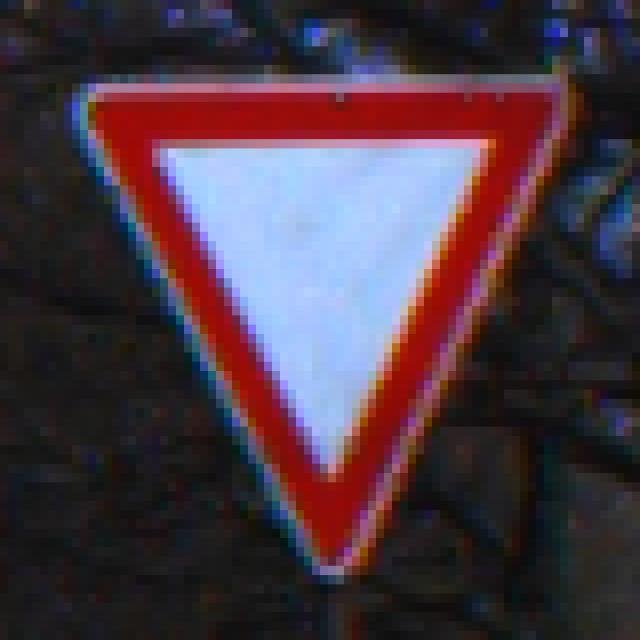Give Way: (65, 66, 585, 585)
